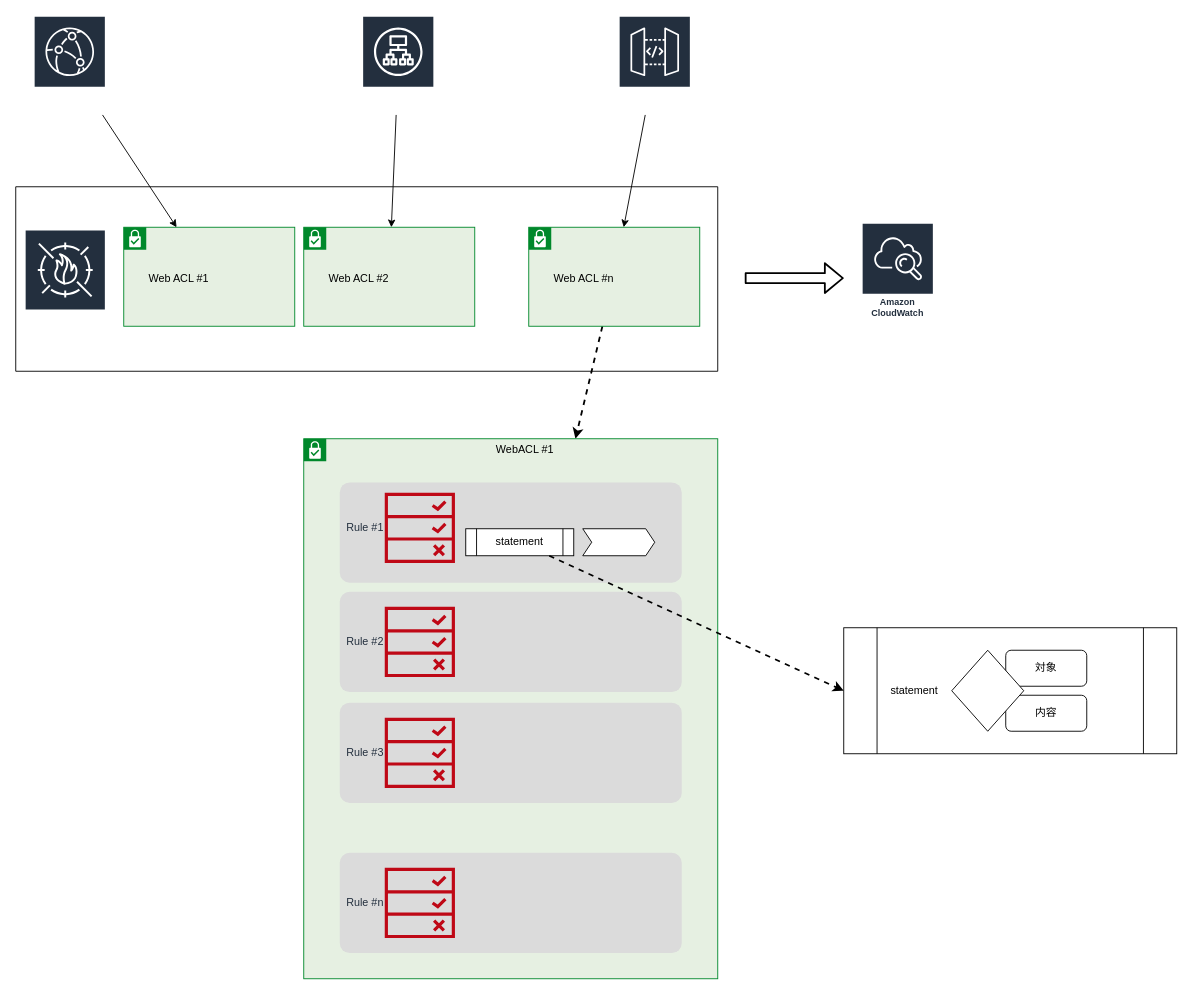
This 1193x995 diagram has some shape labels left out. Here are the shapes that lost their labels. From the top down, the box of each, then its label:
(33, 15, 106, 115): Amazon Cloudfront
(361, 15, 434, 115): Application Load Balancer
(618, 15, 691, 115): Amazon API Gateway
(24, 229, 106, 324): AWS WAF
(582, 528, 655, 556): action
(951, 649, 1024, 731): 判定
